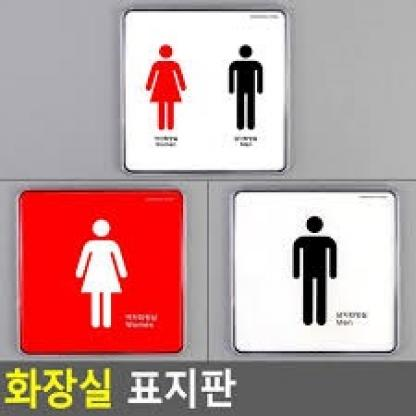toilet: (64, 202, 346, 337), (141, 35, 271, 133)
